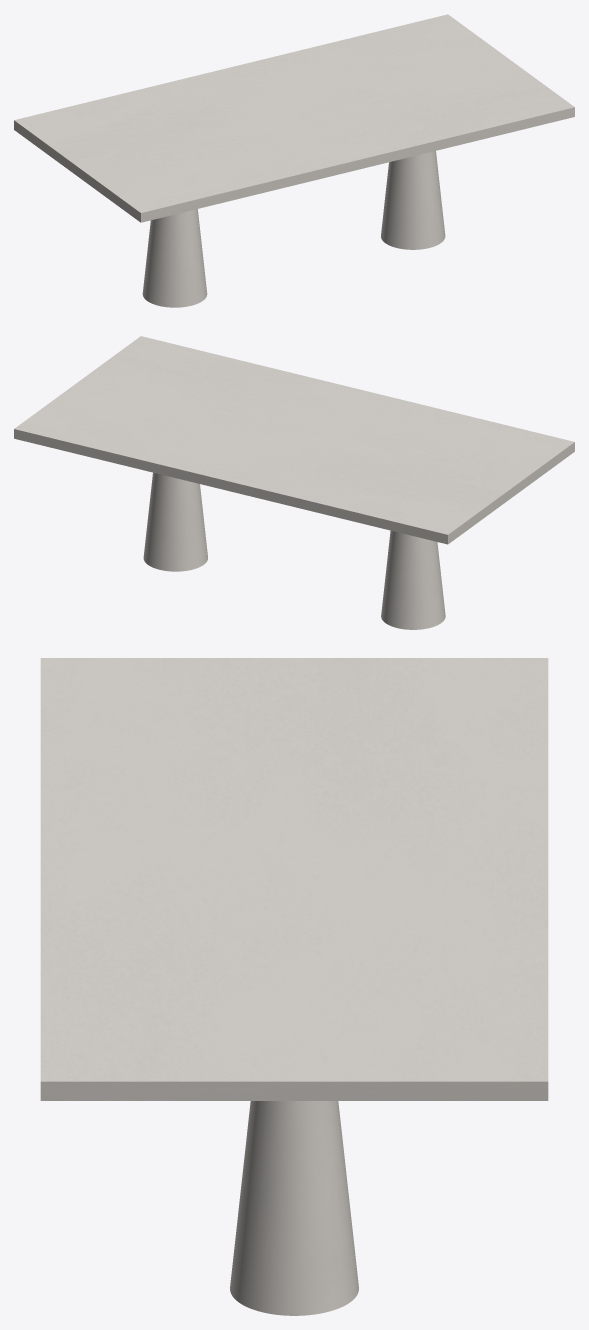
The model's file is pearlwhite_recta_standard_pebble.glb.
3 views of the same model, one above another, from view 1: azimuth 30°, elevation 25°; view 2: azimuth 150°, elevation 25°; view 3: azimuth 270°, elevation 25° (orthographic). The views are drawn at different scales.
Parts seen in each view (by area): view 1: standard_recta, pebble; view 2: standard_recta, pebble; view 3: standard_recta, pebble.
Part boxes in pixels (x1,y1,x2,y2): standard_recta: [14, 14, 574, 222]; pebble: [142, 151, 445, 307]; standard_recta: [14, 336, 574, 544]; pebble: [143, 472, 445, 629]; standard_recta: [40, 658, 548, 1100]; pebble: [230, 1101, 358, 1315].
Bounding box in the file's own units: 7.5 × 2.5 × 3.8.
1 material, 1 textured.
